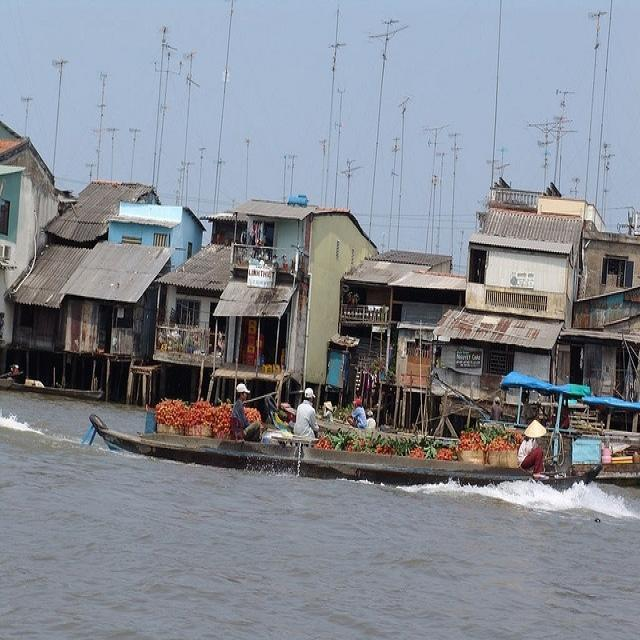boat: (85, 413, 550, 480)
